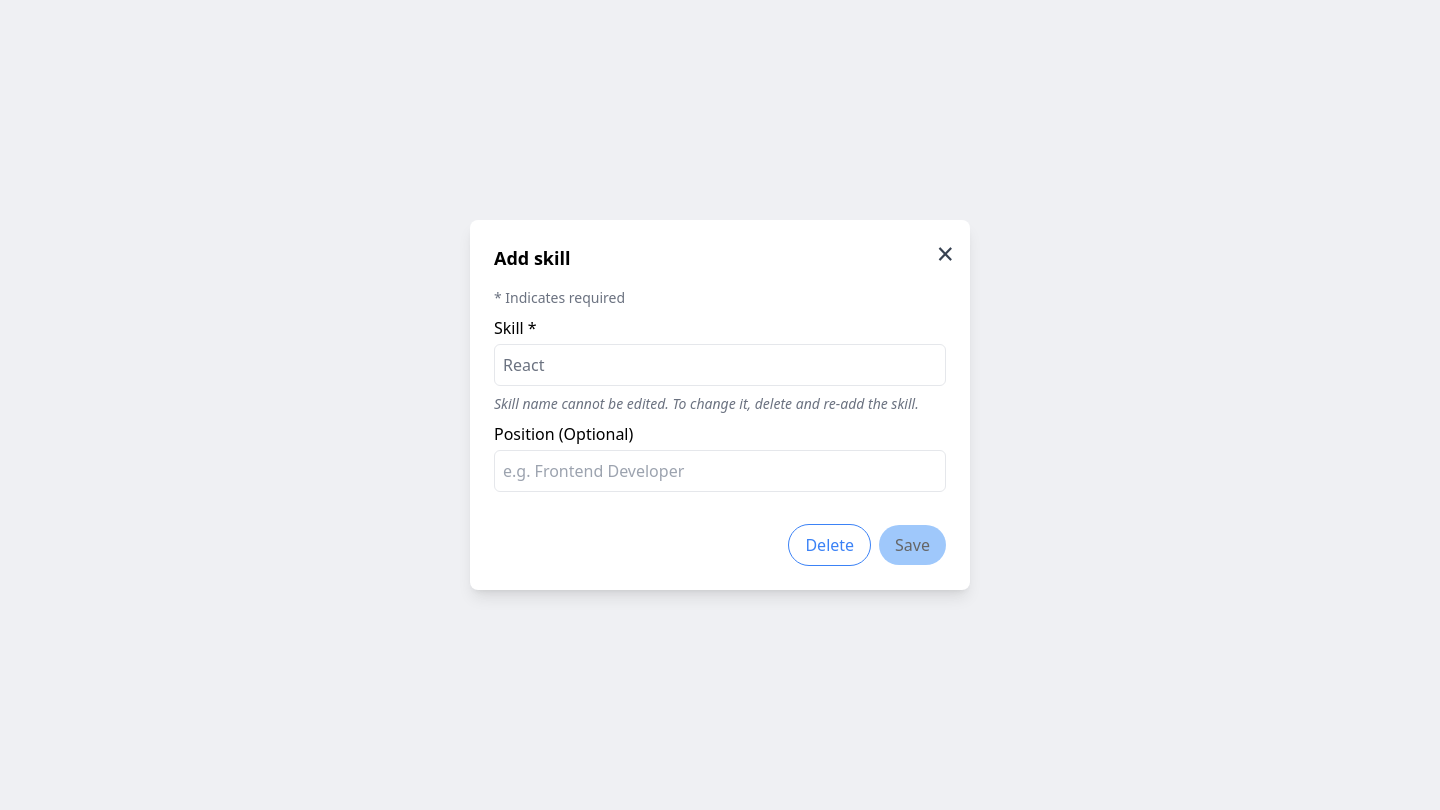
Test case: GenericModal › shows discard confirmation modal if changes are made
This screenshot has width=1440, height=810.
Replace the text in the field labelled "Skill *" with "Angular" at (720, 365), box [494,344,946,386]
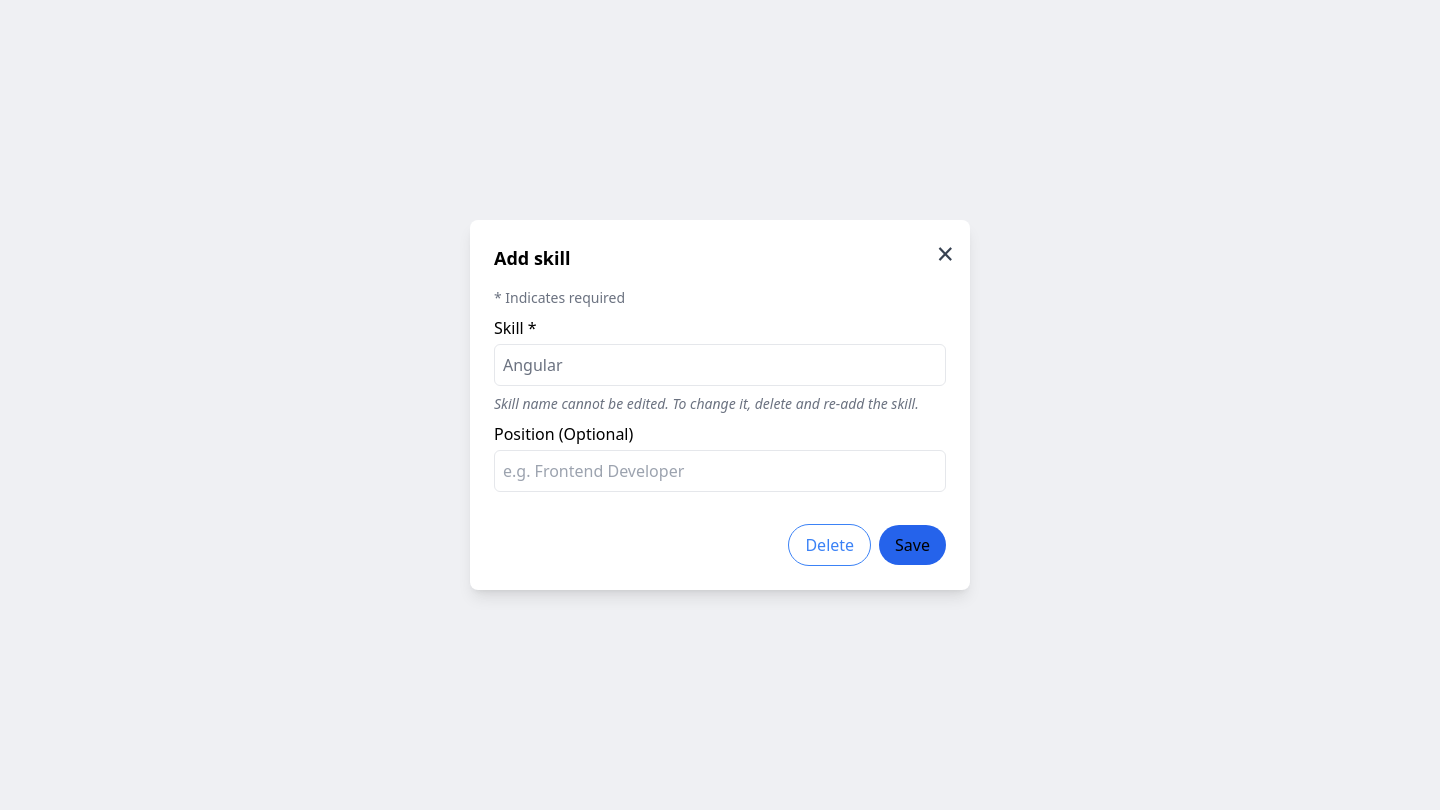
Click the button named "Close modal" at (945, 254), box [937,236,954,272]
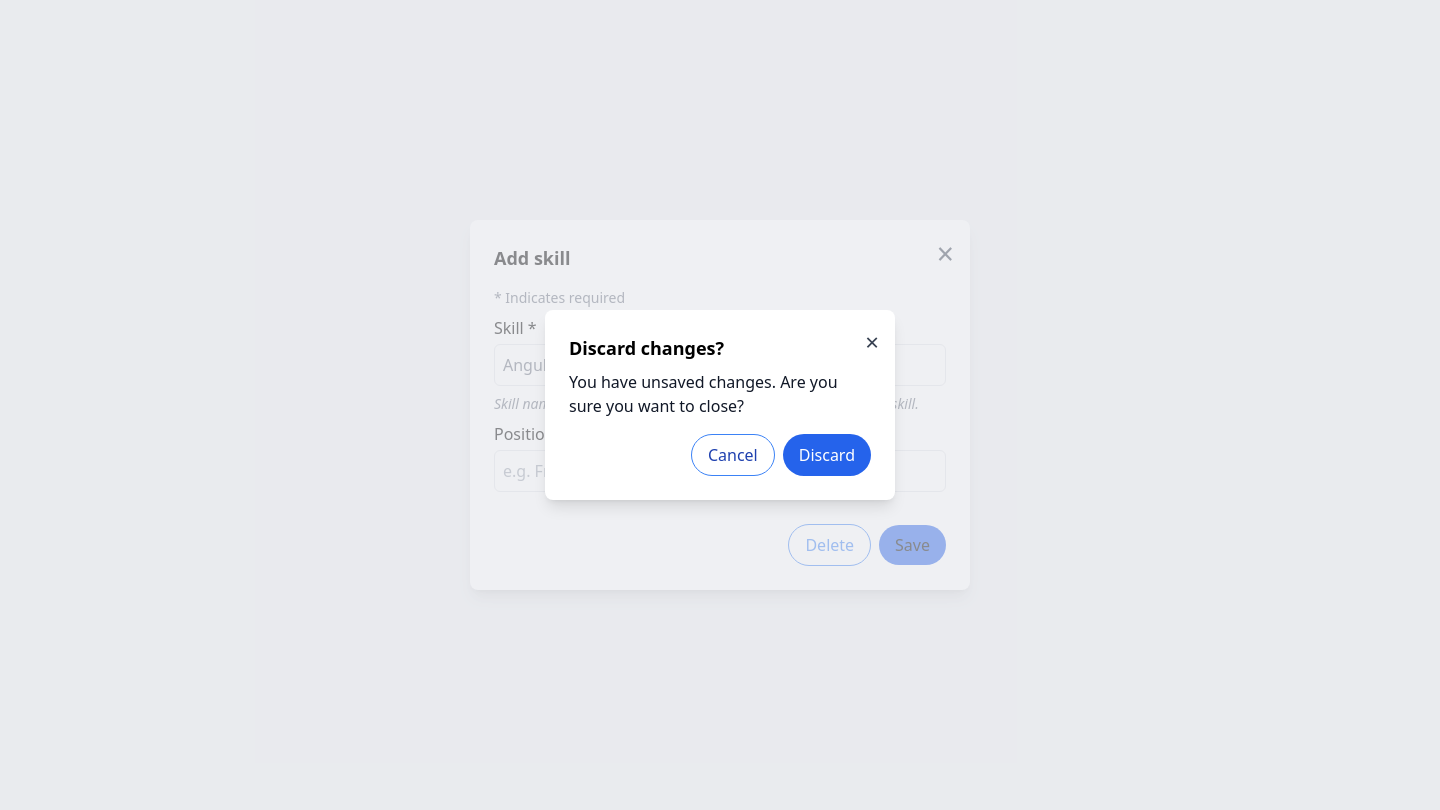
Now the heading "Discard changes?" is shown, box [569,336,724,360]
